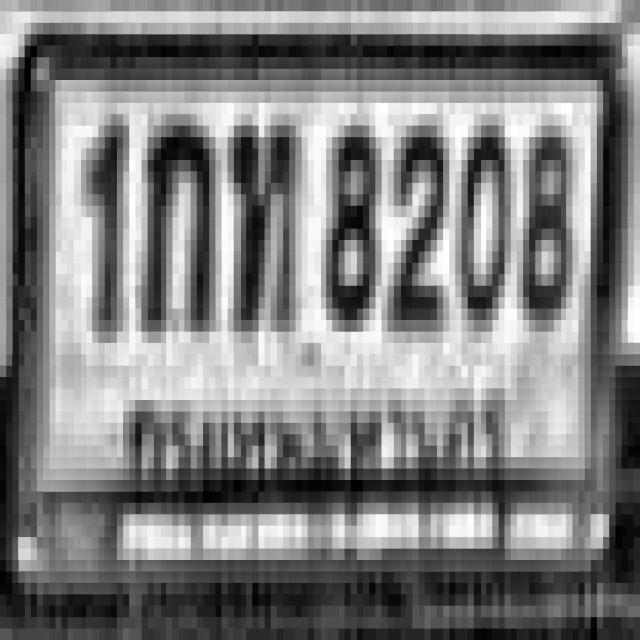license-plate: (17, 26, 619, 597)
